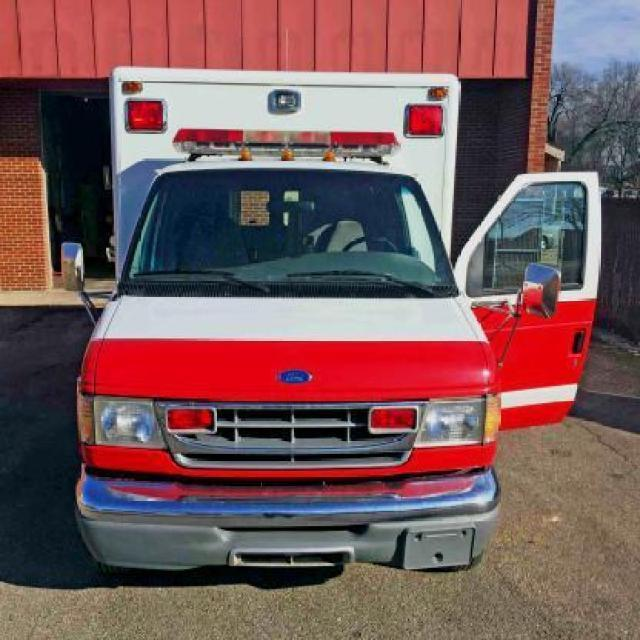emergency: (61, 64, 603, 578)
